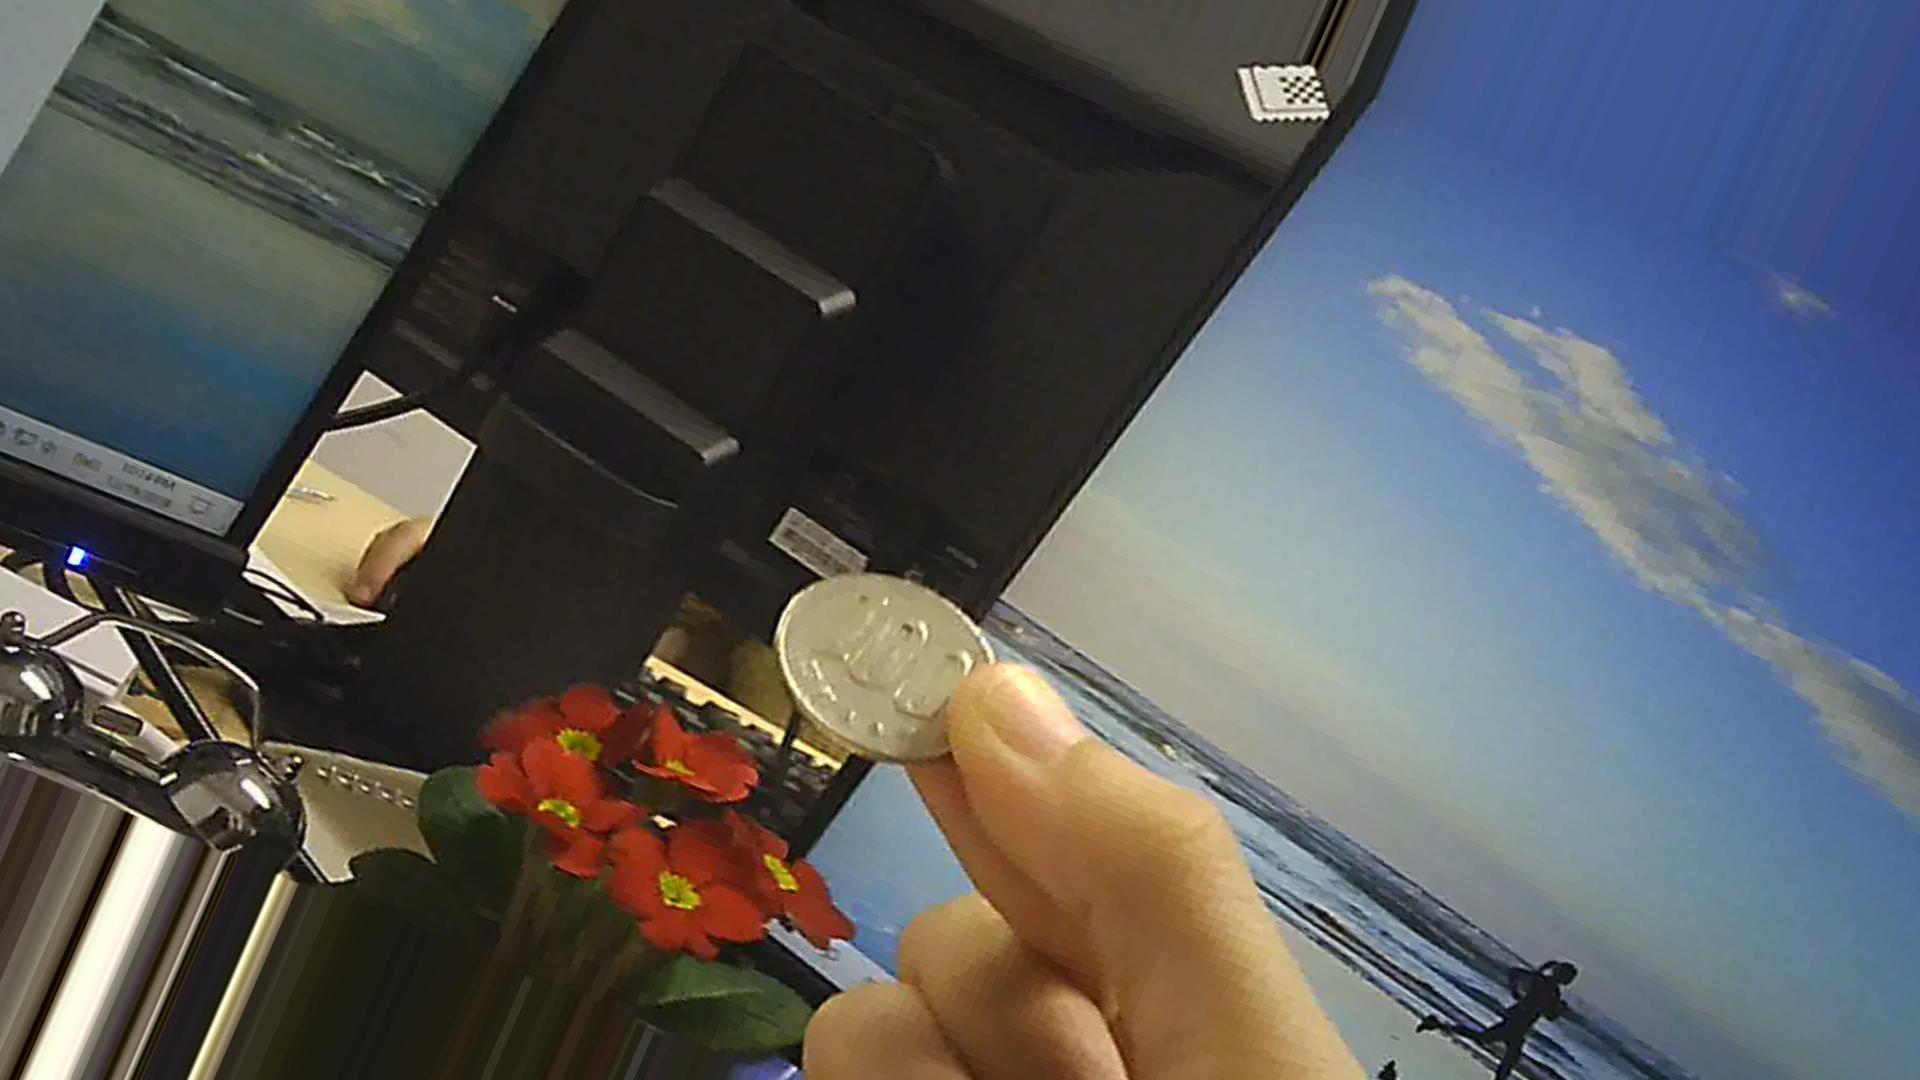100 Yen: (764, 564, 1005, 761)
